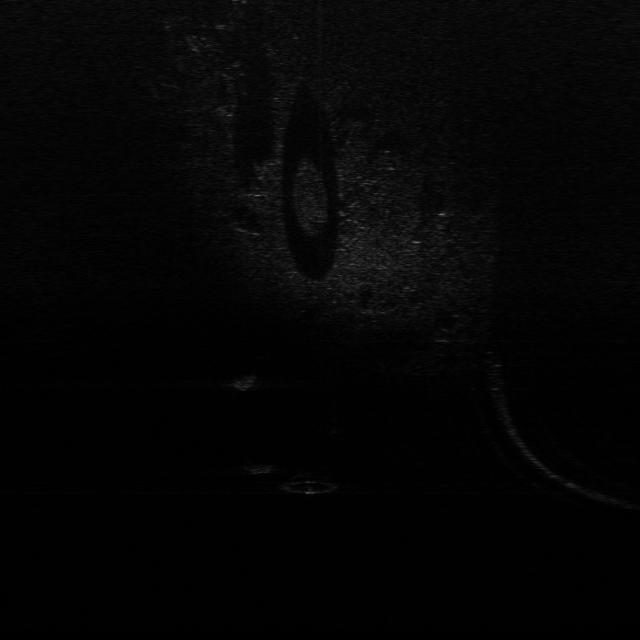cube: (242, 461, 276, 474)
square cage: (224, 372, 258, 390)
tyre: (279, 472, 343, 497)
